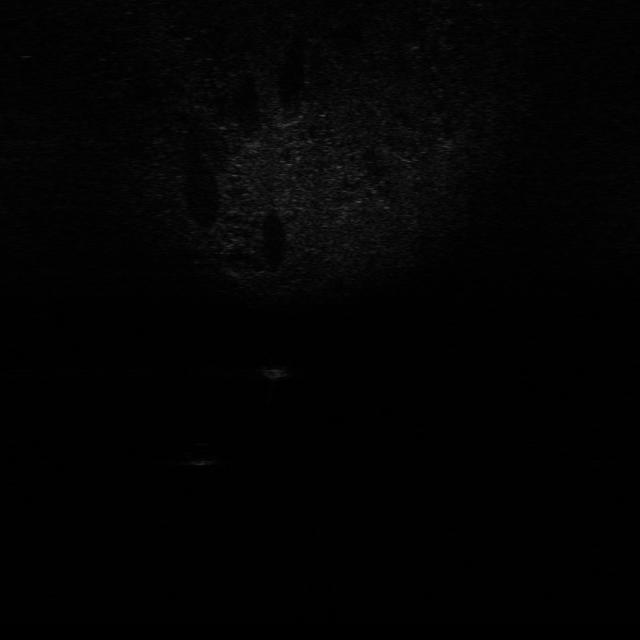ball: (184, 440, 224, 466)
cube: (256, 360, 300, 380)
